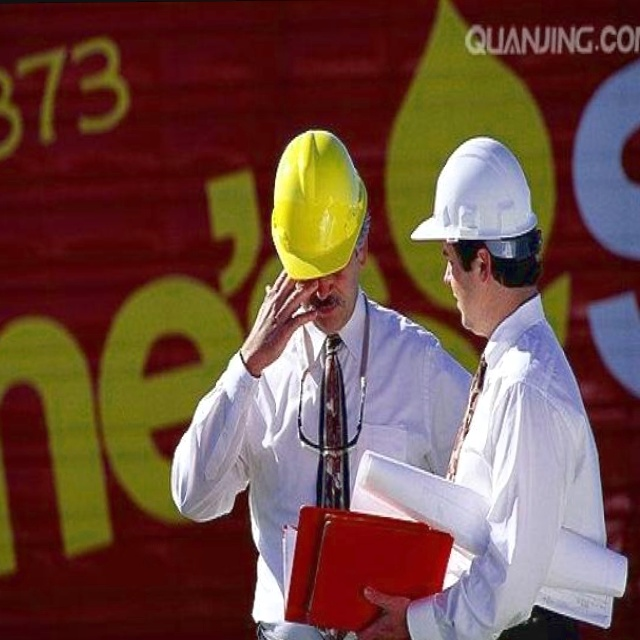Con_Casco: (412, 135, 545, 328), (266, 131, 375, 307)
